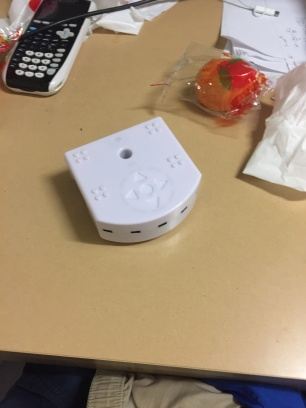thymio: (61, 112, 205, 250)
